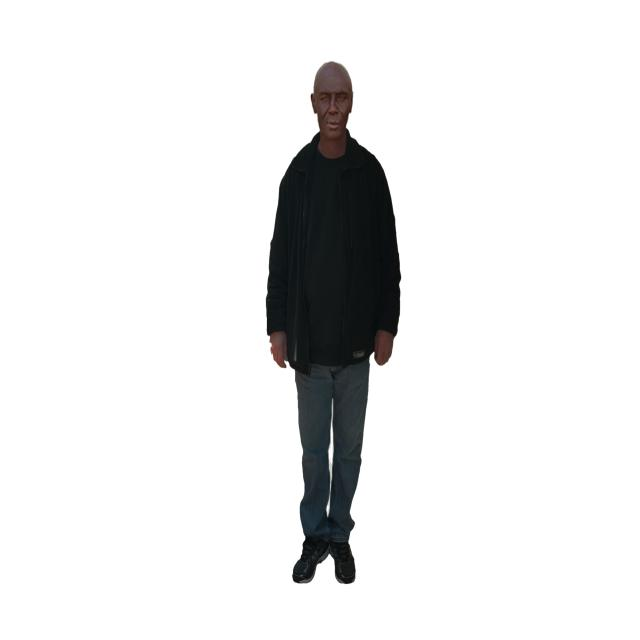jovem: (254, 53, 415, 589)
